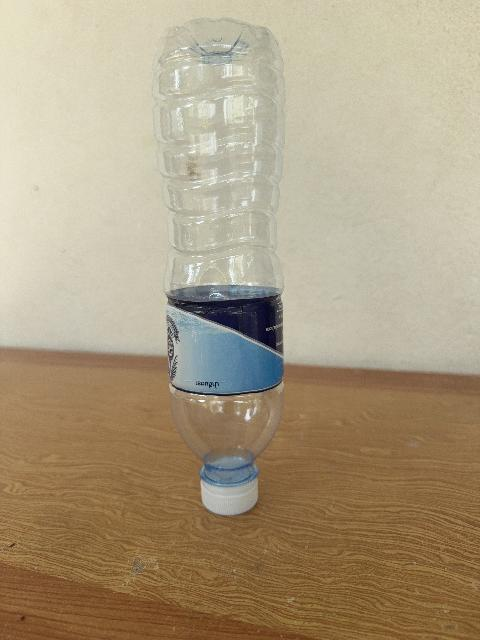bottle: (154, 19, 284, 514)
